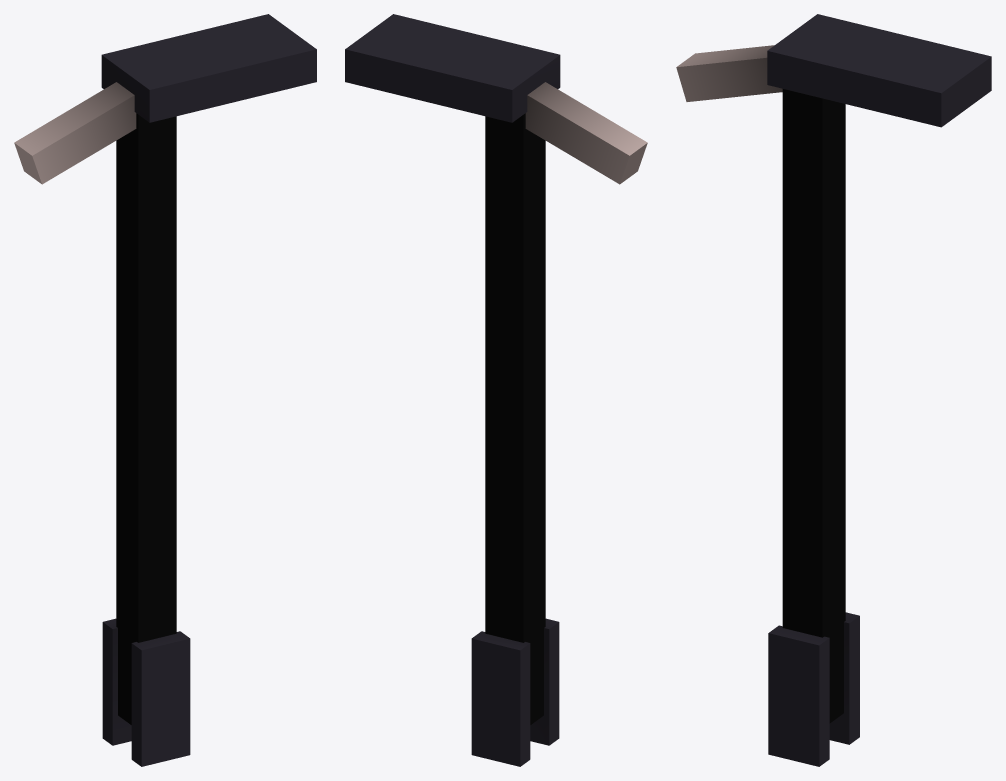
The model's file is wpn.halligan.lod1.glb.
The picture shows the model from 3 angles, left to right: view 1: azimuth 30°, elevation 25°; view 2: azimuth 150°, elevation 25°; view 3: azimuth 330°, elevation 25°; orthographic projection. The views are drawn at different scales.
Visible parts, largest first — view 1: body; view 2: body; view 3: body.
Part boxes in pixels (left/top/right/bottom): body: left=14, top=14, right=316, bottom=766; body: left=345, top=14, right=647, bottom=766; body: left=676, top=14, right=991, bottom=766.
Bounding box in the file's own units: 0.3871 × 0.9325 × 0.12.
